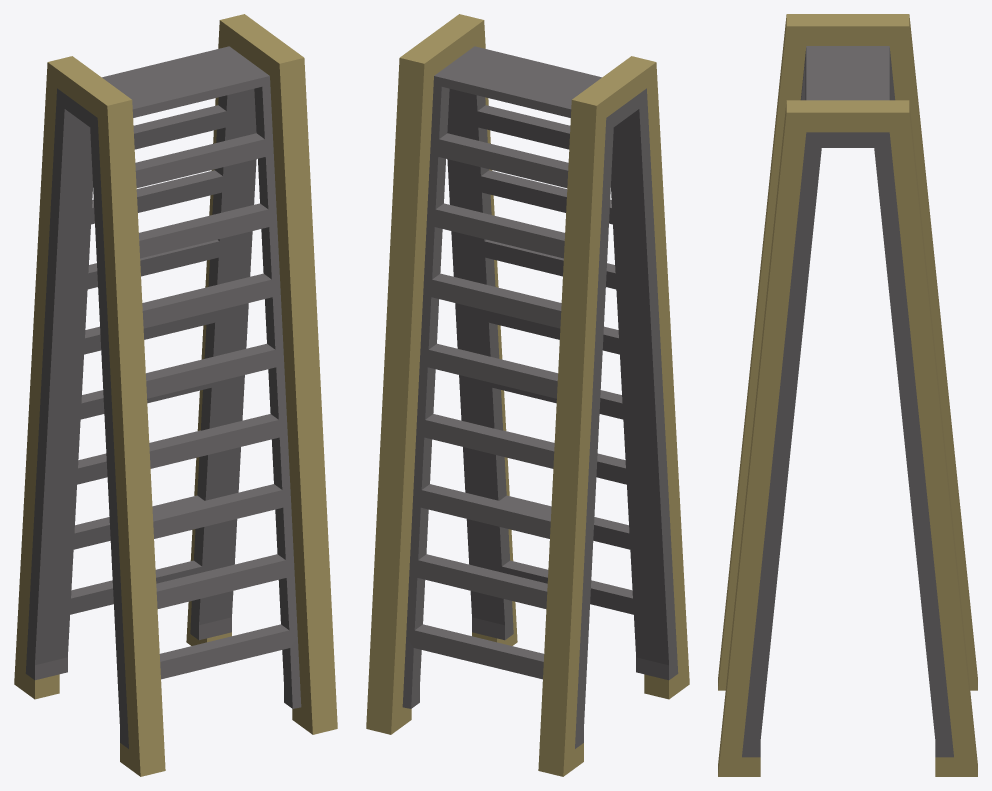
Rendered from Portable Ladder.fbx.
3 views of the same model, side by side, from view 1: azimuth 30°, elevation 25°; view 2: azimuth 150°, elevation 25°; view 3: azimuth 270°, elevation 25° (orthographic). The views are drawn at different scales.
Visible parts, largest first — view 1: Portable Ladder; view 2: Portable Ladder; view 3: Portable Ladder.
Part boxes in pixels (bbox=[...]): Portable Ladder: bbox=[14, 14, 337, 776]; Portable Ladder: bbox=[366, 14, 689, 776]; Portable Ladder: bbox=[718, 14, 977, 776].
Bounding box in the file's own units: 0.787 × 0.8749 × 2.47.
